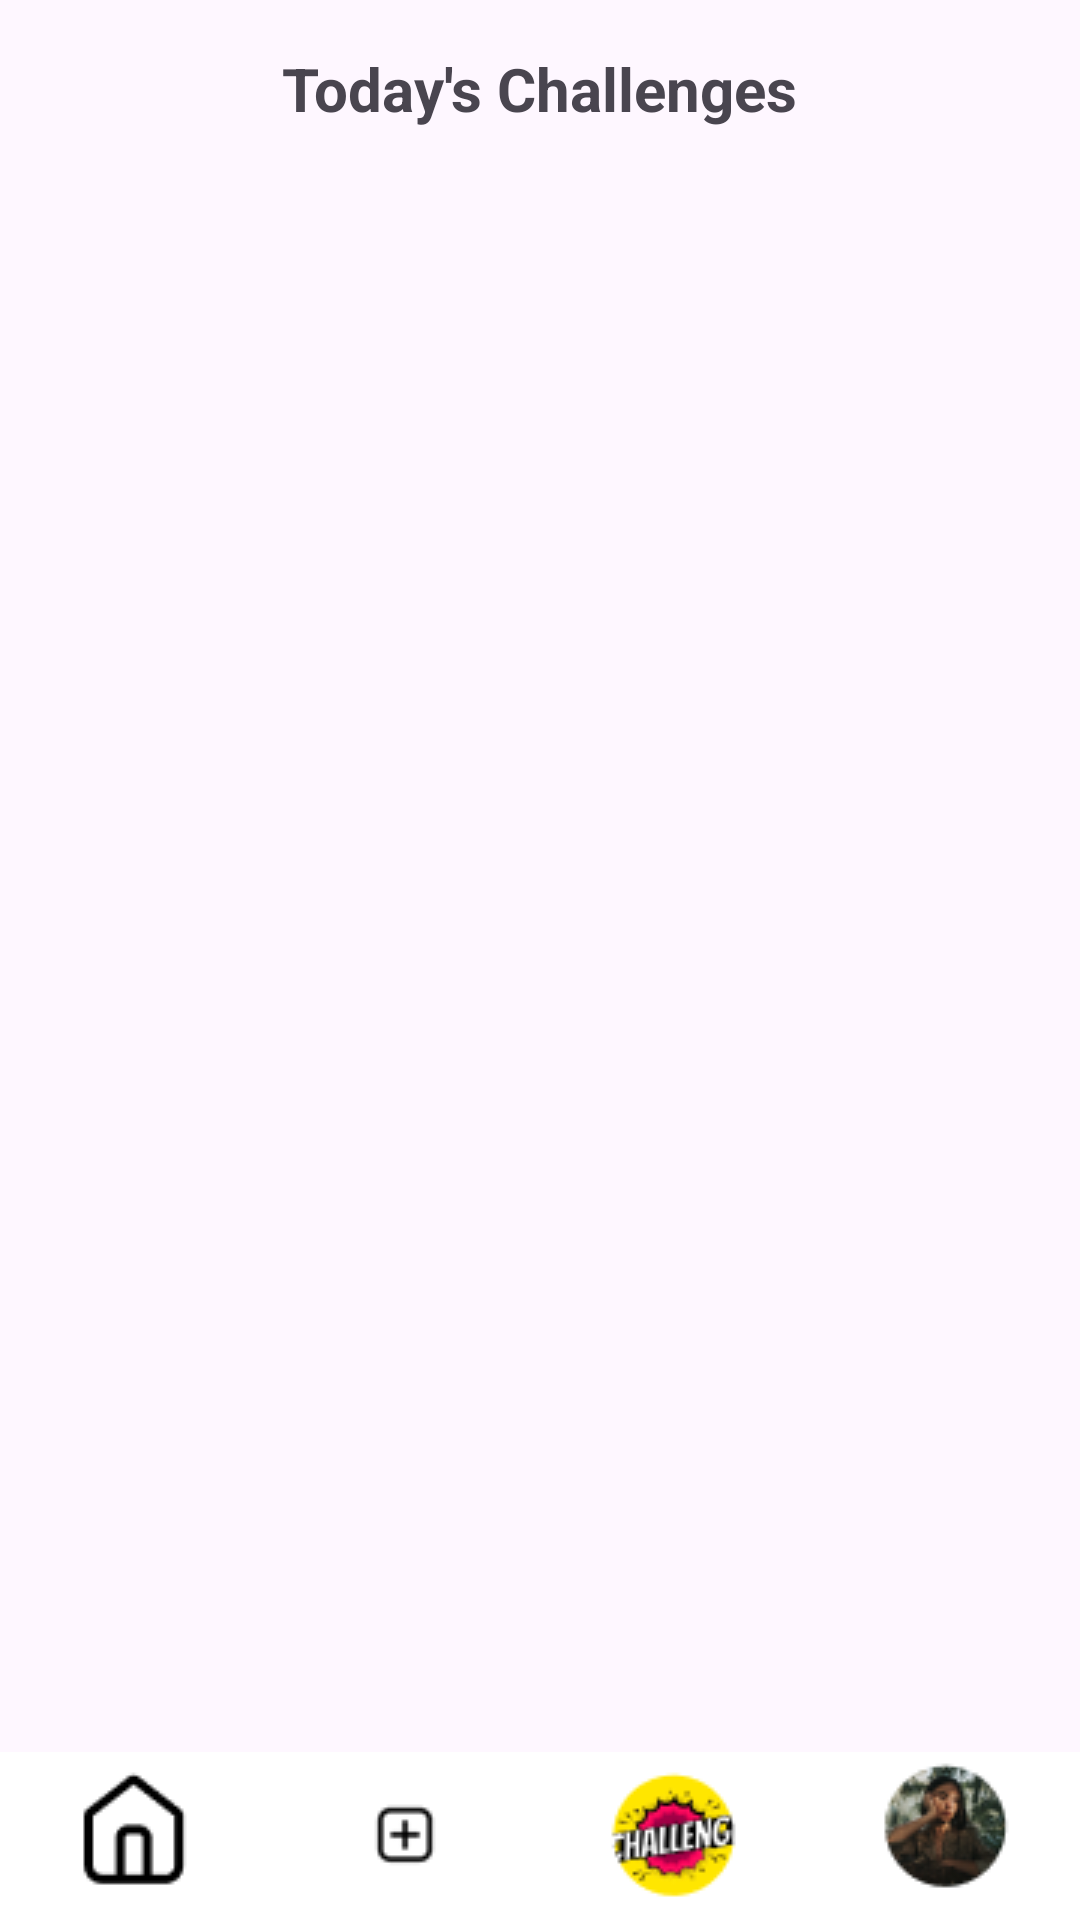

Point at icon controls on the screen. Image size 1080x1920, points as (x=x, y=y).
Add Post: (x=405, y=1834)
Home: (x=134, y=1829)
Profile: (x=945, y=1826)
